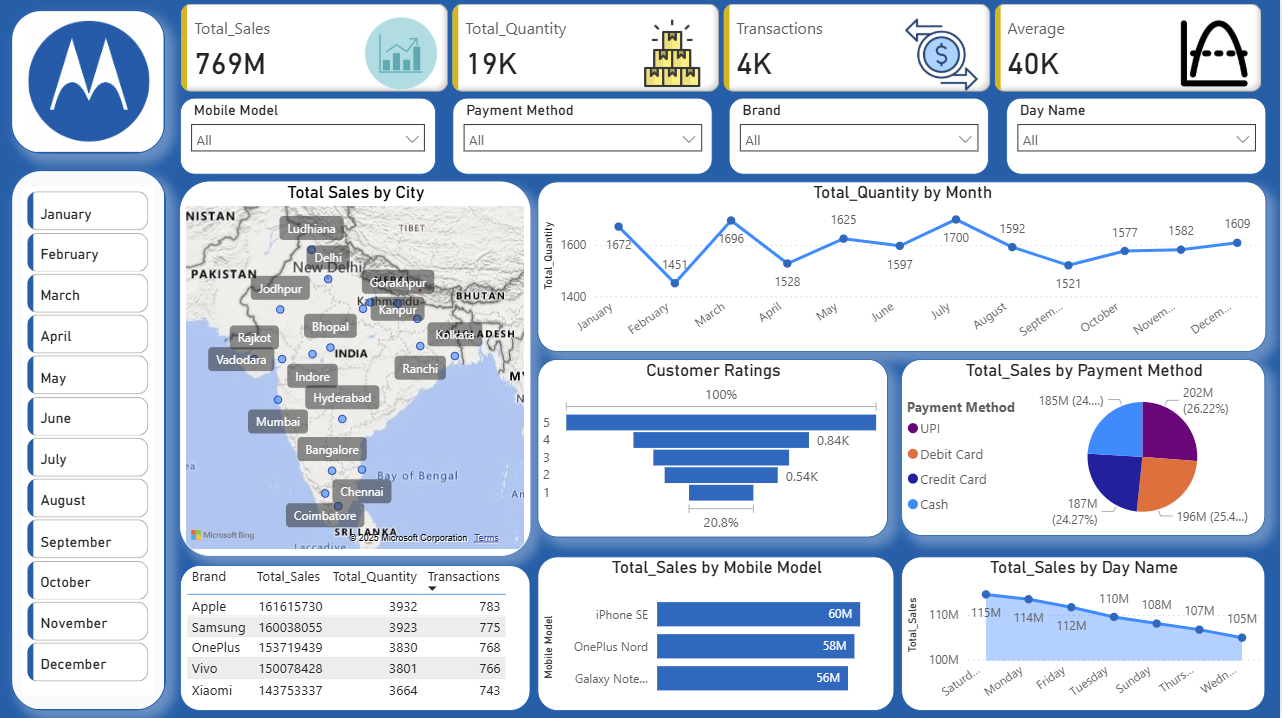

Layout of this report page (visuals, bound fields, positions):
{"tool":"powerbi","page":{"name":"Page 1","canvas":[1280,720],"ordinal":0},"visuals":[{"type":"shape","box":[11.7,10.7,153.7,143],"z":0},{"type":"shape","box":[11.4,171.4,154.3,540],"z":1000},{"type":"image","box":[23.3,16.5,130.3,132.3],"z":2000},{"type":"advancedSlicerVisual","fields":{"Values":["Sales_Data.Date.Variation.Date Hierarchy.Month"]},"box":[22.9,187.1,131.4,508.6],"z":3000},{"type":"cardVisual","fields":{"Data":["Sales_Data.Total_Sales","Sales_Data.Total_Quantity","Sales_Data.Transactions","Sales_Data.Average"]},"box":[176.2,0,1090,98.8],"z":4000},{"type":"map","fields":{"Category":["Sales_Data.City"]},"box":[180,182.9,350,374.3],"z":5000},{"type":"lineChart","fields":{"Y":["Sales_Data.Total_Quantity"],"Category":["Sales_Data.Date.Variation.Date Hierarchy.Month","Sales_Data.Date.Variation.Date Hierarchy.Day"]},"box":[537.1,182.9,728.6,170],"z":6000},{"type":"barChart","fields":{"Category":["Sales_Data.Mobile Model"],"Y":["Sales_Data.Total_Sales"]},"box":[537.1,557.1,357.1,154.3],"z":7000},{"type":"pieChart","fields":{"Category":["Sales_Data.Payment Method"],"Y":["Sales_Data.Total_Sales"]},"box":[901.4,360,364.3,177.1],"z":8000},{"type":"funnel","title":"Customer Ratings","fields":{"Category":["Sales_Data.Customer Ratings"],"Y":["CountNonNull(Sales_Data.Customer Ratings)"]},"box":[537.1,360,350,178.6],"z":9000},{"type":"areaChart","fields":{"Y":["Sales_Data.Total_Sales"],"Category":["Sales_Data.Day Name"]},"box":[901.4,557.1,364.3,154.3],"z":10000},{"type":"tableEx","fields":{"Values":["Sales_Data.Brand","Sales_Data.Total_Sales","Sales_Data.Total_Quantity","Sales_Data.Transactions"]},"box":[180,565.7,350,145.7],"z":11000},{"type":"slicer","fields":{"Values":["Sales_Data.Mobile Model"]},"box":[180,98.6,255.7,77.1],"z":12000},{"type":"slicer","fields":{"Values":["Sales_Data.Payment Method"]},"box":[452.9,98.6,260,77.1],"z":13000},{"type":"slicer","fields":{"Values":["Sales_Data.Brand"]},"box":[728.6,98.6,260,77.1],"z":14000},{"type":"slicer","fields":{"Values":["Sales_Data.Day Name"]},"box":[1005.7,98.6,260,77.1],"z":15000}]}

Visuals, with their boxes in screenshot pixels (x1, y1, x2, y2), scaled from the page's 1280x720 canvas onto the 1282x718 screenshot:
shape: (12,11,166,153)
shape: (11,171,166,709)
image: (23,16,154,148)
advancedSlicerVisual - Sales_Data.Date.Variation.Date Hierarchy.Month: (23,187,155,694)
cardVisual - Sales_Data.Total_Sales x Sales_Data.Total_Quantity: (176,0,1268,99)
map - Sales_Data.City: (180,182,531,556)
lineChart - Sales_Data.Total_Quantity x Sales_Data.Date.Variation.Date Hierarchy.Month: (538,182,1268,352)
barChart - Sales_Data.Mobile Model x Sales_Data.Total_Sales: (538,556,896,709)
pieChart - Sales_Data.Payment Method x Sales_Data.Total_Sales: (903,359,1268,536)
"Customer Ratings" funnel: (538,359,888,537)
areaChart - Sales_Data.Total_Sales x Sales_Data.Day Name: (903,556,1268,709)
tableEx - Sales_Data.Brand x Sales_Data.Total_Sales: (180,564,531,709)
slicer - Sales_Data.Mobile Model: (180,98,436,175)
slicer - Sales_Data.Payment Method: (454,98,714,175)
slicer - Sales_Data.Brand: (730,98,990,175)
slicer - Sales_Data.Day Name: (1007,98,1268,175)
